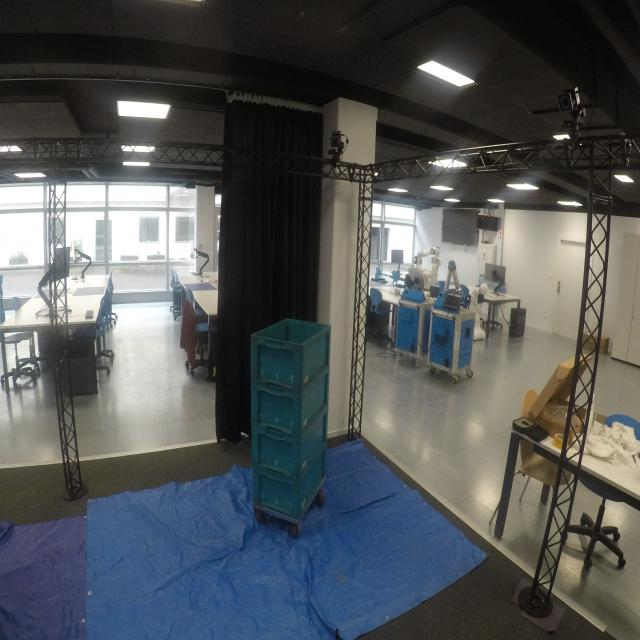BoxB4: (251, 408, 329, 476), (251, 317, 330, 383), (253, 451, 327, 518), (250, 380, 330, 434)
